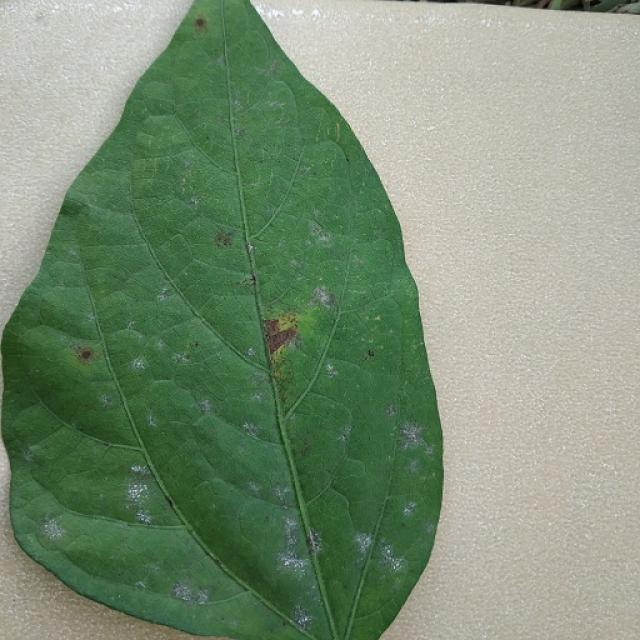Blackgram: (2, 0, 441, 639)
Powdery_Mildew: (389, 419, 436, 515), (124, 465, 170, 525), (173, 581, 211, 606), (42, 517, 67, 541), (283, 521, 303, 551), (400, 424, 424, 447), (280, 549, 304, 570), (126, 480, 147, 503), (312, 224, 333, 246), (312, 284, 333, 304), (355, 534, 372, 556), (274, 483, 291, 503), (380, 541, 396, 561), (305, 534, 320, 554), (295, 611, 312, 628), (283, 515, 299, 533), (389, 555, 405, 572), (99, 393, 114, 407), (154, 339, 167, 353), (384, 403, 397, 417), (172, 351, 187, 363), (199, 400, 212, 413), (248, 481, 261, 494), (23, 448, 35, 462), (340, 425, 351, 440), (147, 414, 158, 427), (130, 464, 145, 473), (157, 290, 169, 301), (243, 422, 254, 433), (252, 391, 263, 402), (424, 444, 434, 456), (135, 580, 147, 590), (134, 359, 145, 369), (327, 367, 337, 378), (246, 347, 255, 357), (126, 320, 136, 329), (338, 433, 347, 443), (160, 286, 169, 295), (88, 313, 97, 322)
